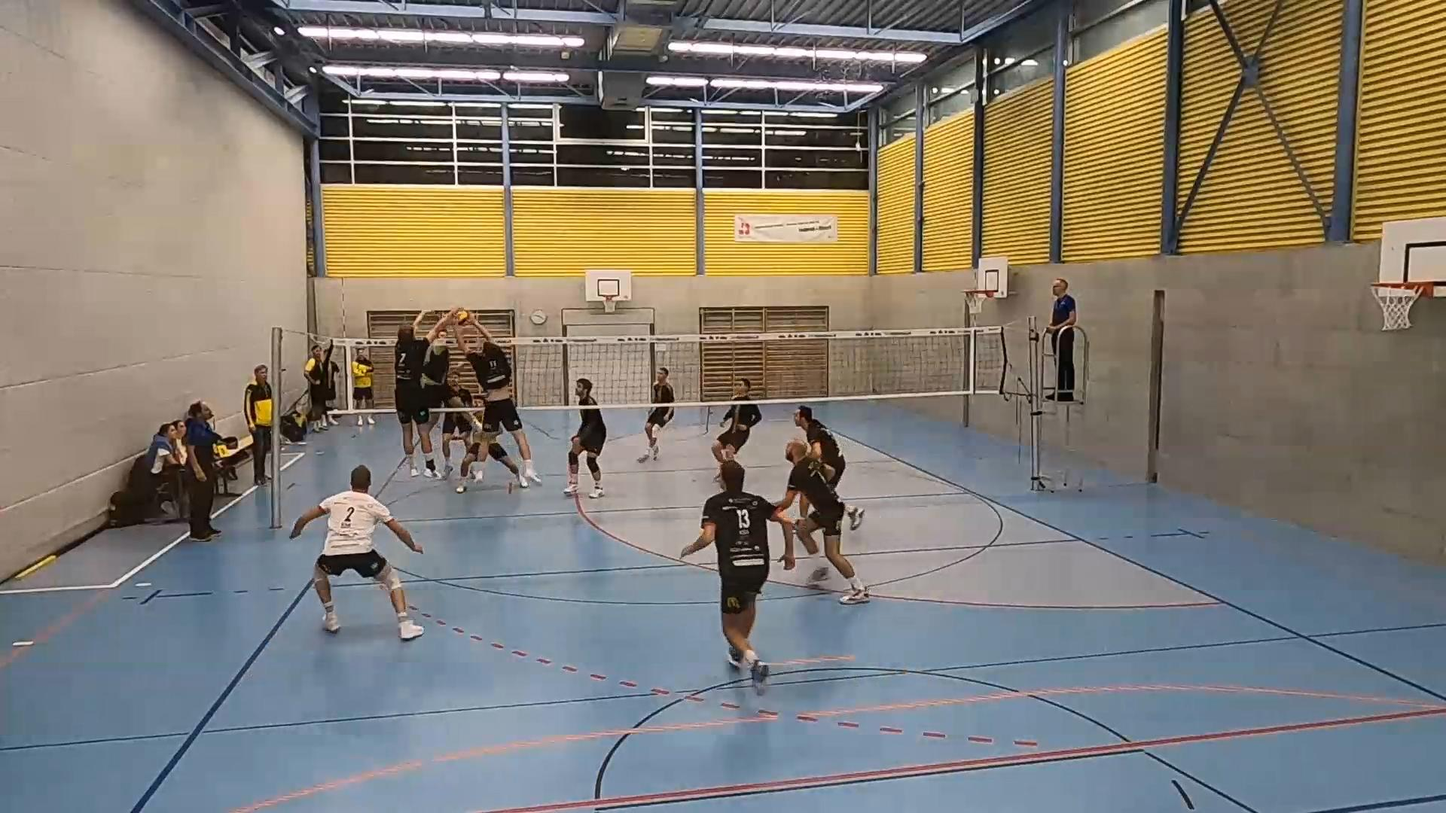attacco: (415, 316, 456, 468)
muro: (456, 315, 531, 478), (390, 305, 454, 478)
